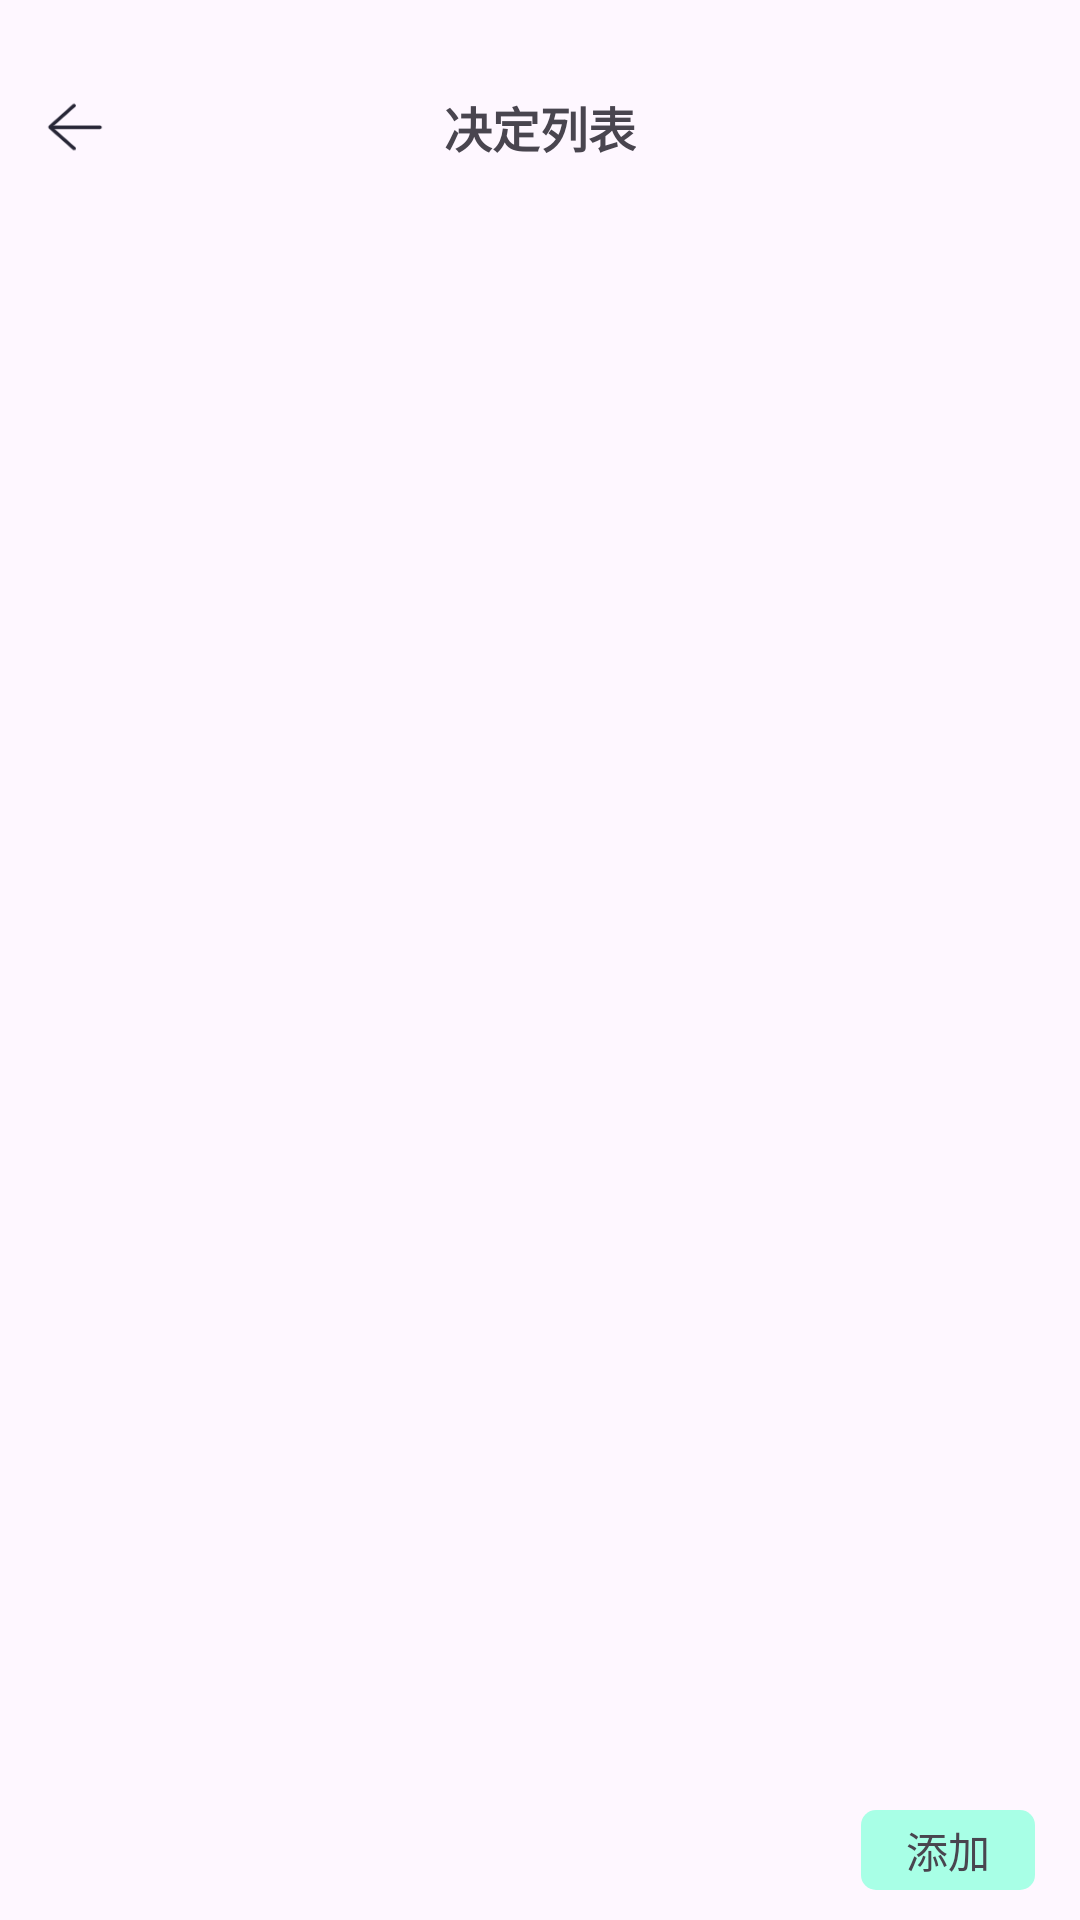

Screen size 1080 × 1920. Icon name, then its center in pixels as point (x, y):
fanhui: point (75, 127)
